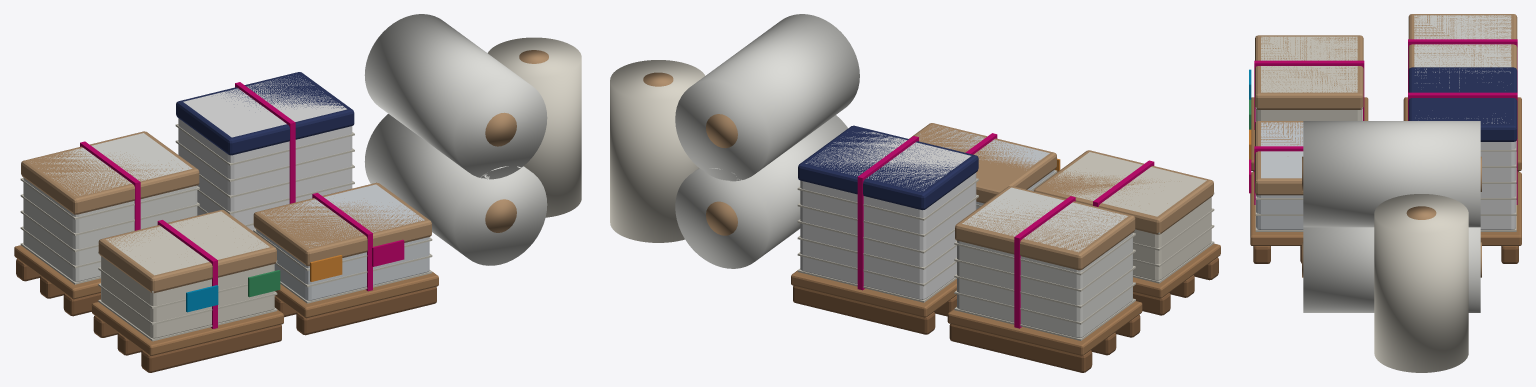
Rendered from m_paperstore.glb.
The picture shows the model from 3 angles, left to right: view 1: azimuth 30°, elevation 25°; view 2: azimuth 150°, elevation 25°; view 3: azimuth 270°, elevation 25°; orthographic projection. The views are drawn at different scales.
Visible parts, largest first — view 1: m_paperstore; view 2: m_paperstore; view 3: m_paperstore.
Boxes of the visible parts, x1,y1,x2,y2 form: m_paperstore: [14, 14, 581, 372]; m_paperstore: [610, 14, 1220, 372]; m_paperstore: [1249, 14, 1521, 372].
Size of the model in its own units: 0.99 by 0.3425 by 0.462.
